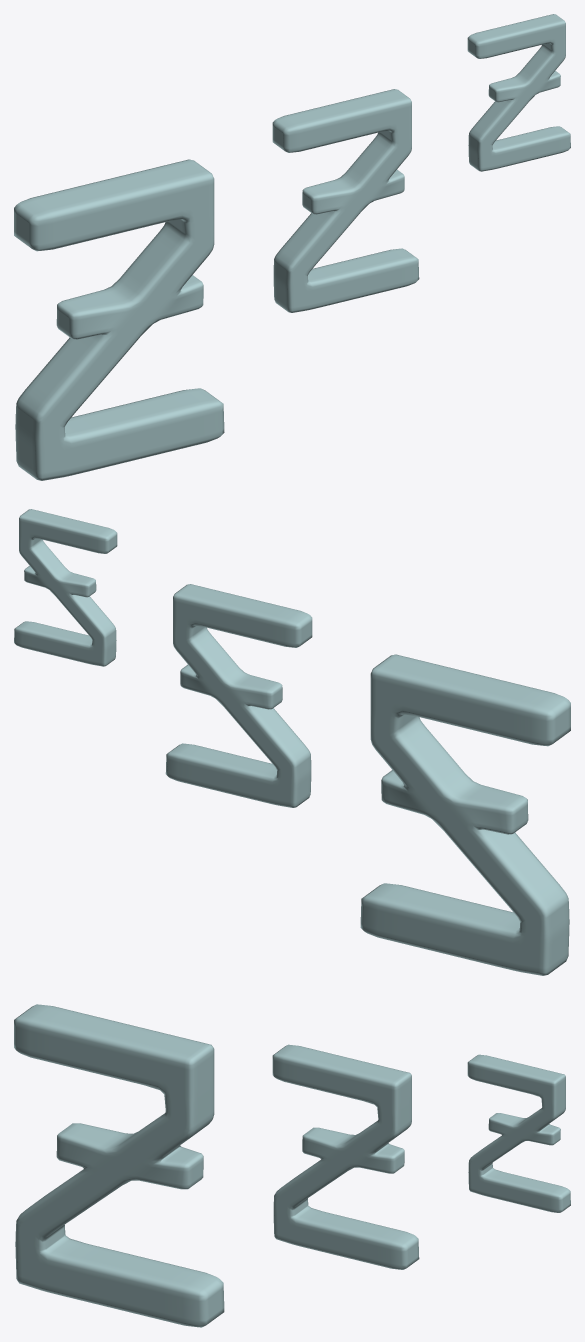
File: zZz.fbx
The picture shows the model from 3 angles, top to bottom: view 1: azimuth 30°, elevation 25°; view 2: azimuth 150°, elevation 25°; view 3: azimuth 330°, elevation 25°; orthographic projection.
Visible parts, largest first — view 1: ZzZ, ZzZ1, ZzZ2; view 2: ZzZ, ZzZ1, ZzZ2; view 3: ZzZ, ZzZ1, ZzZ2.
Boxes of the visible parts, box(x1,y1,x2,y2) form: ZzZ: box(14, 159, 224, 480); ZzZ1: box(272, 89, 419, 312); ZzZ2: box(467, 14, 570, 171); ZzZ: box(360, 654, 570, 975); ZzZ1: box(165, 584, 312, 807); ZzZ2: box(14, 509, 117, 666); ZzZ: box(14, 1004, 224, 1327); ZzZ1: box(272, 1044, 419, 1269); ZzZ2: box(467, 1054, 570, 1212).
Size of the model in its own units: 0.619 by 0.3585 by 0.0475.
